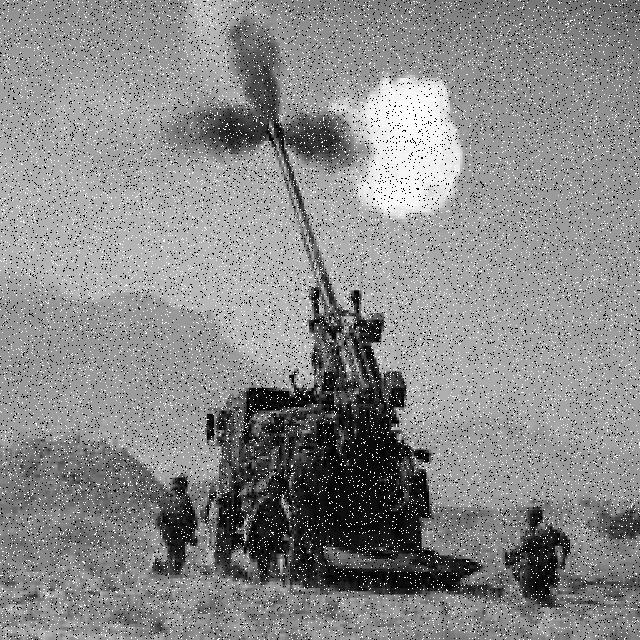MIL_MBT: (207, 104, 439, 557)
